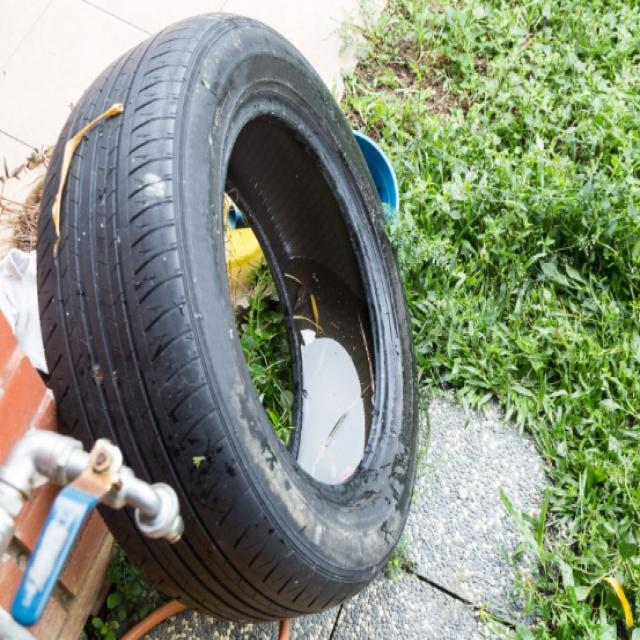Breeding Place: (40, 18, 424, 637)
